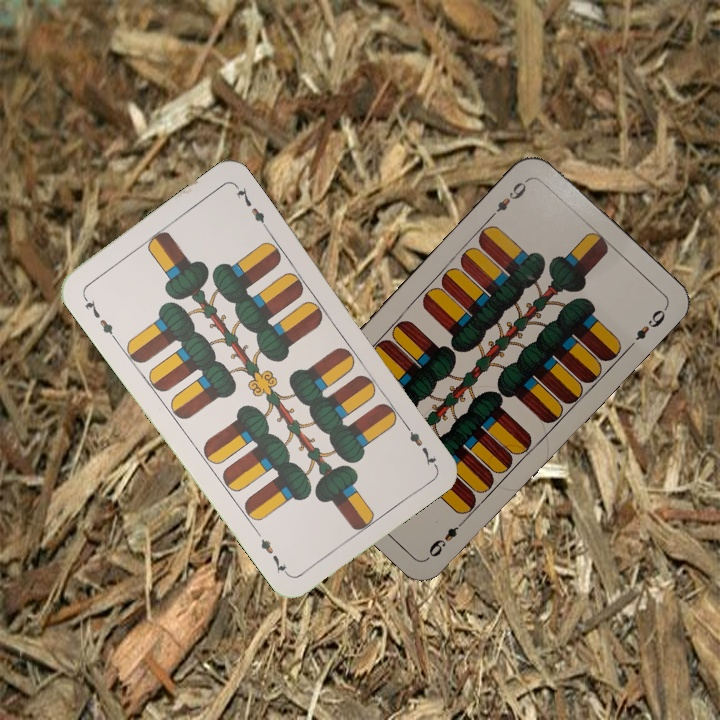E7: (398, 417, 439, 469), (79, 291, 119, 343)
E9: (486, 175, 532, 221), (424, 514, 470, 560)
